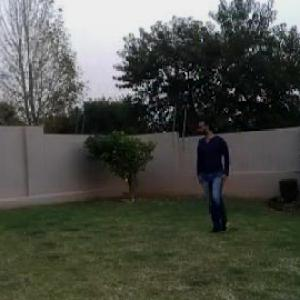follow: (188, 108, 235, 246)
